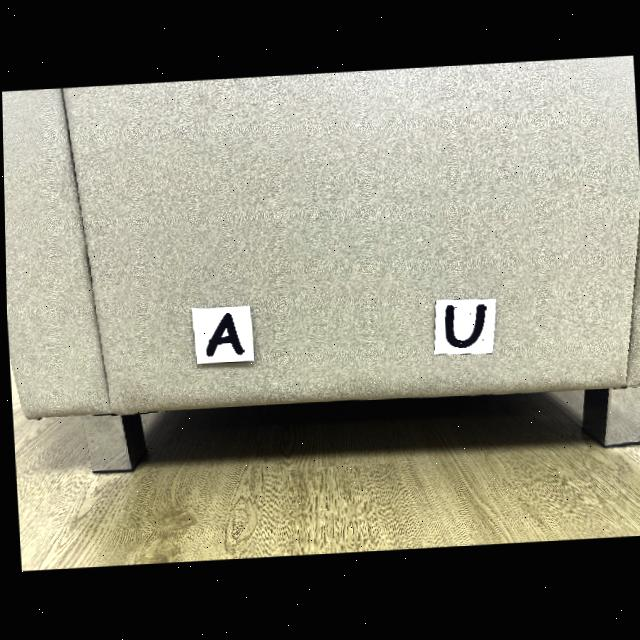A: (205, 314, 242, 357)
U: (443, 306, 484, 350)
